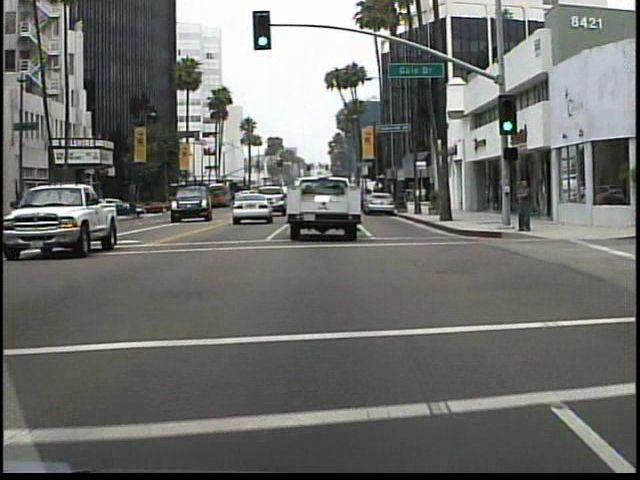person: (510, 174, 533, 239)
